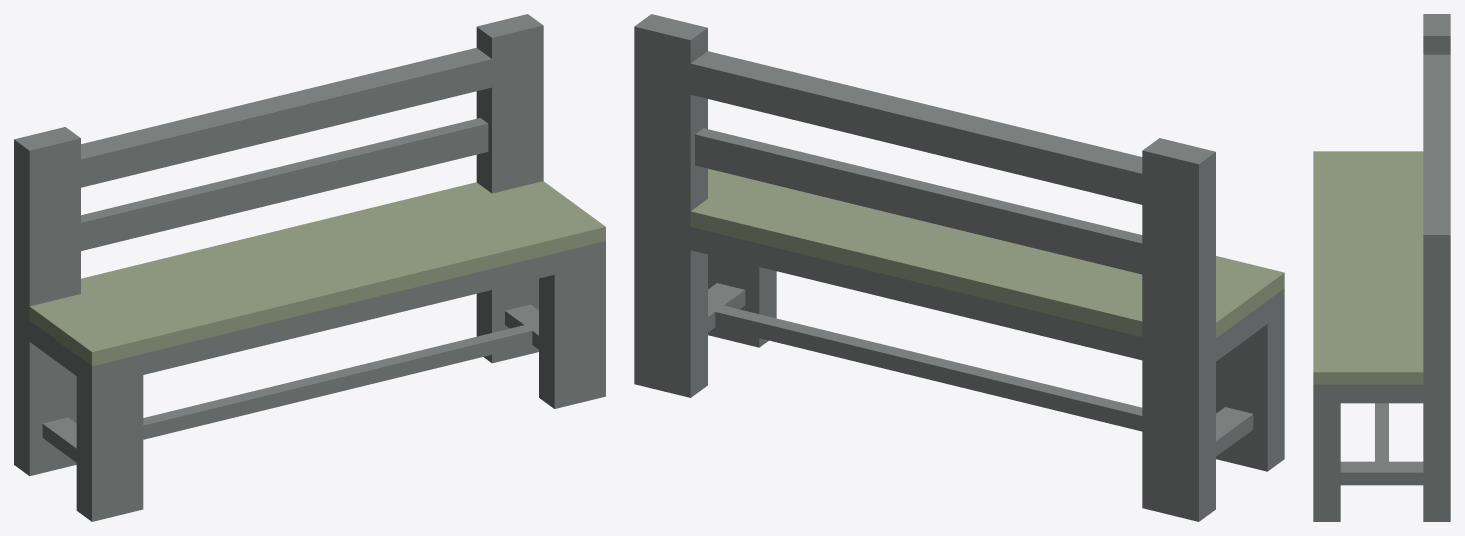
The model's file is bench_waiting.glb.
3 views of the same model, side by side, from view 1: azimuth 30°, elevation 25°; view 2: azimuth 150°, elevation 25°; view 3: azimuth 270°, elevation 25° (orthographic). The views are drawn at different scales.
Visible parts, largest first — view 1: prop; view 2: prop; view 3: prop.
Part boxes in pixels (<box>): prop: <box>14,14,605,521</box>; prop: <box>634,14,1284,521</box>; prop: <box>1313,14,1450,521</box>.
Bounding box in the file's own units: 1.5 × 0.9079 × 0.3947.
